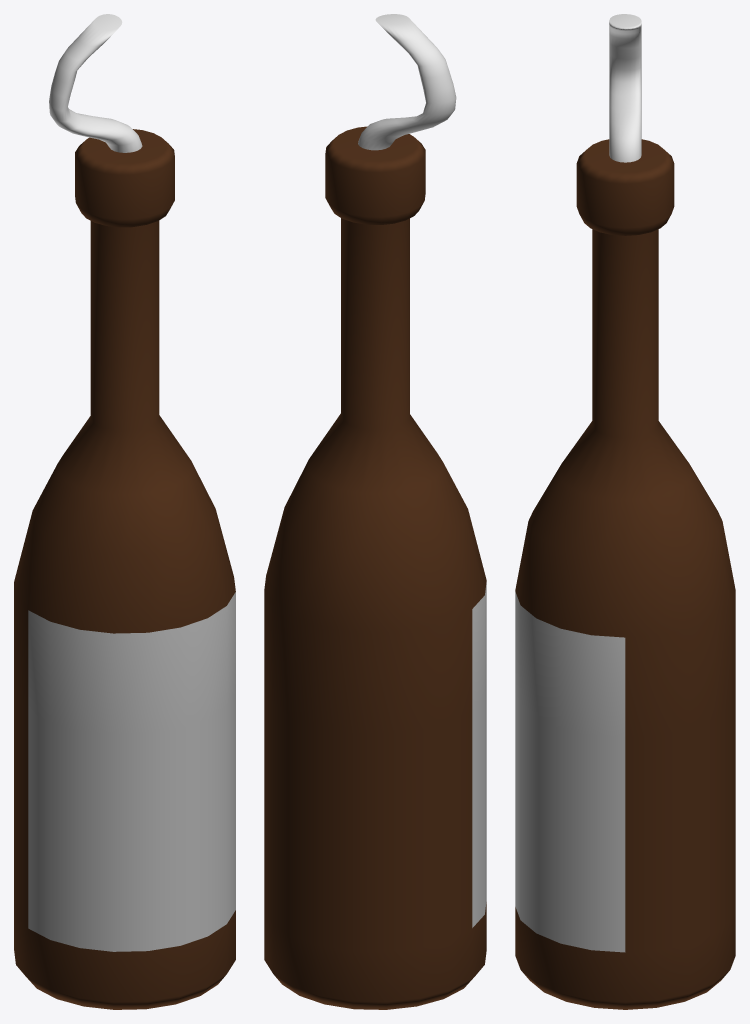
Rendered from molotov.fbx.
3 renders of one model, left to right at view 1: azimuth 30°, elevation 25°; view 2: azimuth 150°, elevation 25°; view 3: azimuth 270°, elevation 25°, orthographic.
Visible parts, largest first — view 1: pCylinder3; view 2: pCylinder3; view 3: pCylinder3.
Boxes of the visible parts, bbox=[...] form: pCylinder3: bbox=[14, 14, 235, 1009]; pCylinder3: bbox=[264, 14, 486, 1009]; pCylinder3: bbox=[515, 14, 735, 1009].
Size of the model in its own units: 1.03 by 4.82 by 1.03.
